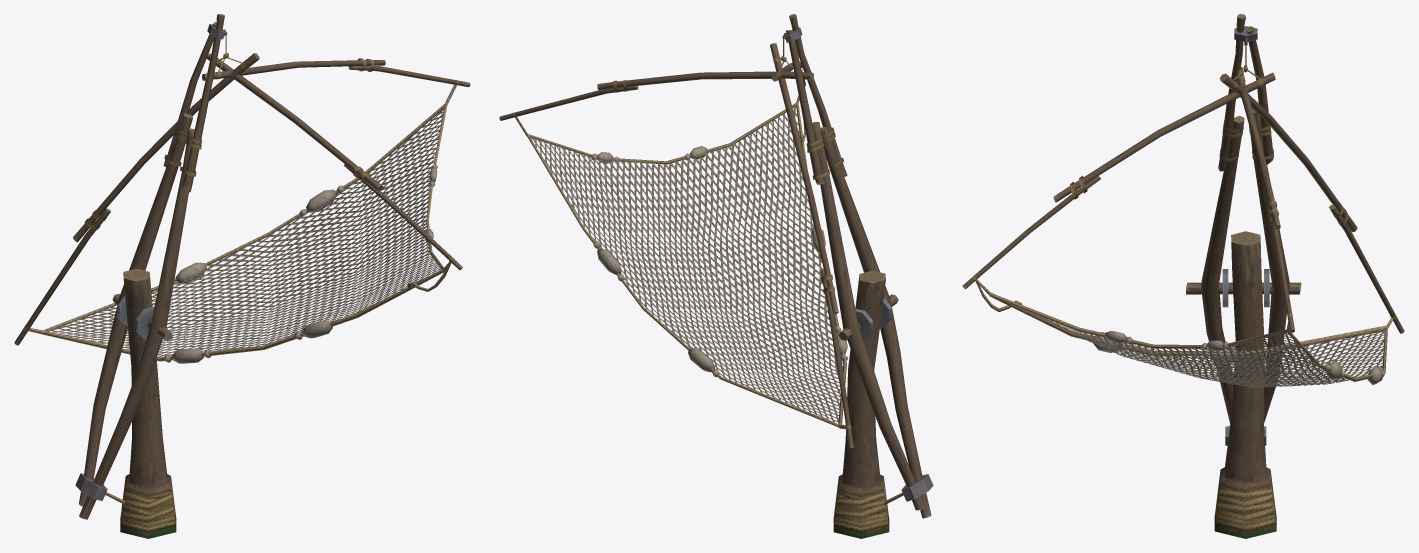
Rendered from Homeworld_Exterior_Xm_Thing_Prop_FishingTool_01_Lod0.fbx.
3 views of the same model, side by side, from view 1: azimuth 30°, elevation 25°; view 2: azimuth 150°, elevation 25°; view 3: azimuth 270°, elevation 25° (orthographic). The views are drawn at different scales.
Parts seen in each view (by area): view 1: Homeworld_Exterior_Xm_Thing_Prop_FishingTool_01_Lod0; view 2: Homeworld_Exterior_Xm_Thing_Prop_FishingTool_01_Lod0; view 3: Homeworld_Exterior_Xm_Thing_Prop_FishingTool_01_Lod0.
Boxes of the visible parts, x1,y1,x2,y2 form: Homeworld_Exterior_Xm_Thing_Prop_FishingTool_01_Lod0: (14, 14, 470, 538); Homeworld_Exterior_Xm_Thing_Prop_FishingTool_01_Lod0: (499, 14, 933, 538); Homeworld_Exterior_Xm_Thing_Prop_FishingTool_01_Lod0: (962, 14, 1404, 538).
Bounding box in the file's own units: 4.86 × 5.57 × 4.09.
